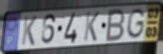4: (63, 12, 78, 45)
6: (40, 13, 56, 47)
B: (104, 7, 127, 43)
G: (125, 8, 147, 41)
K: (21, 15, 39, 47), (83, 11, 101, 42)
